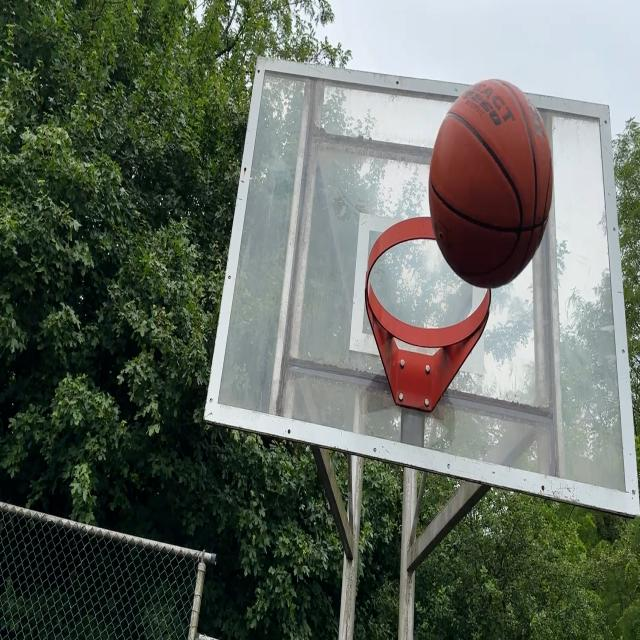Basketball: (433, 82, 557, 293)
